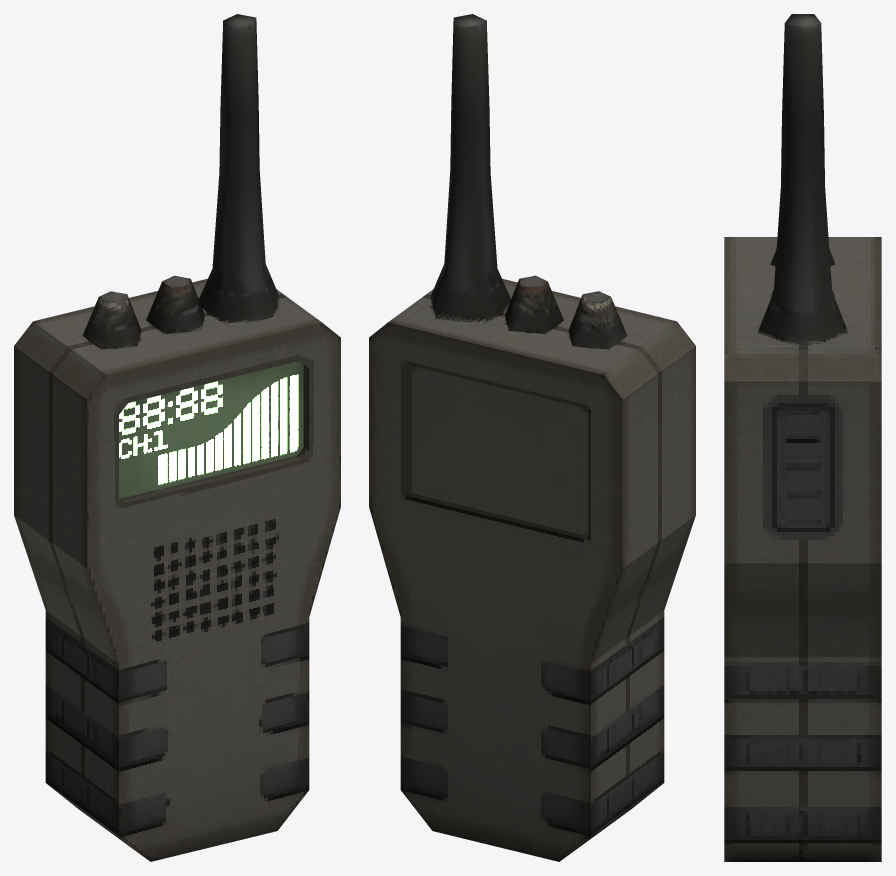
The model's file is hand_radio_psx.glb.
The picture shows the model from 3 angles, left to right: view 1: azimuth 30°, elevation 25°; view 2: azimuth 150°, elevation 25°; view 3: azimuth 270°, elevation 25°; orthographic projection. The views are drawn at different scales.
Visible parts, largest first — view 1: Cube; view 2: Cube; view 3: Cube.
Part boxes in pixels (x1=…): Cube: x1=14, y1=14, x2=340, y2=861; Cube: x1=369, y1=14, x2=695, y2=861; Cube: x1=724, y1=14, x2=881, y2=861.
Bounding box in the file's own units: 0.8 × 2.36 × 0.4.
Materials: 2 (2 with a texture image).
